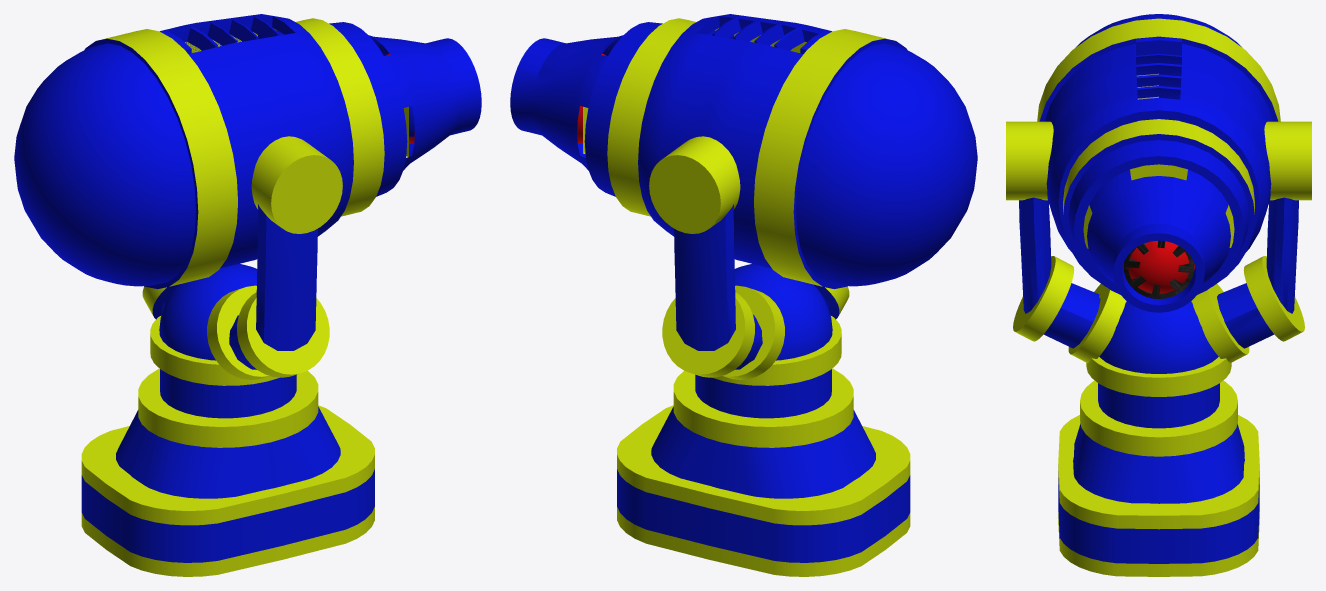
File: Mega Buster.glb
3 views of the same model, side by side, from view 1: azimuth 30°, elevation 25°; view 2: azimuth 150°, elevation 25°; view 3: azimuth 270°, elevation 25° (orthographic). The views are drawn at different scales.
Visible parts, largest first — view 1: Cylinder.004, Plane.003, Plane.006, Plane.004, Plane.007, Plane.015, Plane.010, Plane.005; view 2: Cylinder.004, Plane.003, Plane.006, Plane.004, Plane.007, Plane.016, Plane.010, Plane.005; view 3: Cylinder.004, Plane.006, Plane.007, Plane.005, Plane.004, Plane.010, Plane.015, Plane.016, Plane.009, Plane.008, Plane.002, Plane.003.
Part boxes in pixels (x1=…): Cylinder.004: x1=81, y1=204, x2=374, y2=576; Plane.003: x1=14, y1=43, x2=195, y2=286; Plane.006: x1=160, y1=14, x2=353, y2=268; Plane.004: x1=84, y1=29, x2=237, y2=289; Plane.007: x1=368, y1=35, x2=481, y2=170; Plane.015: x1=251, y1=136, x2=342, y2=233; Plane.010: x1=295, y1=18, x2=384, y2=216; Plane.005: x1=258, y1=22, x2=407, y2=196; Cylinder.004: x1=617, y1=204, x2=910, y2=576; Plane.003: x1=796, y1=43, x2=977, y2=286; Plane.006: x1=638, y1=14, x2=831, y2=268; Plane.004: x1=754, y1=29, x2=907, y2=289; Plane.007: x1=510, y1=35, x2=623, y2=170; Plane.016: x1=649, y1=136, x2=740, y2=233; Plane.010: x1=607, y1=18, x2=696, y2=216; Plane.005: x1=584, y1=22, x2=733, y2=196; Cylinder.004: x1=1013, y1=197, x2=1304, y2=576; Plane.006: x1=1044, y1=37, x2=1273, y2=251; Plane.007: x1=1087, y1=169, x2=1230, y2=312; Plane.005: x1=1062, y1=140, x2=1255, y2=294; Plane.004: x1=1037, y1=18, x2=1280, y2=121; Plane.010: x1=1063, y1=119, x2=1254, y2=286; Plane.015: x1=1006, y1=121, x2=1053, y2=200; Plane.016: x1=1264, y1=121, x2=1311, y2=200; Plane.009: x1=1122, y1=241, x2=1195, y2=293; Plane.008: x1=1123, y1=240, x2=1194, y2=298; Plane.002: x1=1130, y1=164, x2=1187, y2=180; Plane.003: x1=1076, y1=14, x2=1241, y2=46.
Size of the model in its own units: 10.66 by 11.87 by 7.16.
5 materials, 1 textured.
